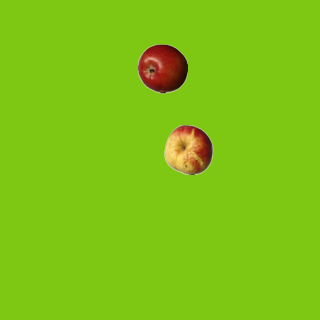Apple Braeburn: (137, 43, 187, 93)
Apple Red Yellow 1: (163, 124, 213, 174)
